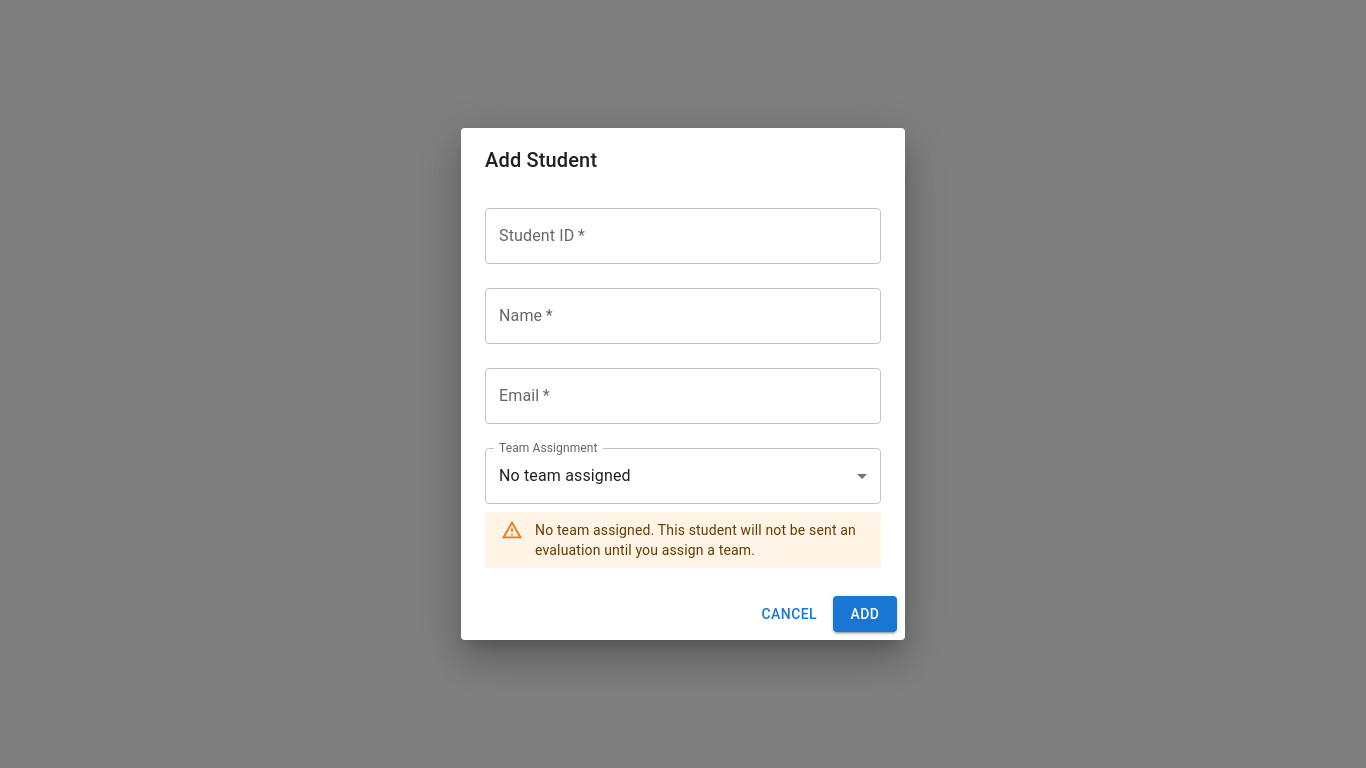
Test: AddStudentDialog › with no team chosen a small alert says that no team is assigned; choosing a team removes it
expect the message shows "No team assigned": met, box [535, 522, 856, 558]
Click the dropdown named "Team Assignment": click(565, 476) [499, 466, 631, 485]
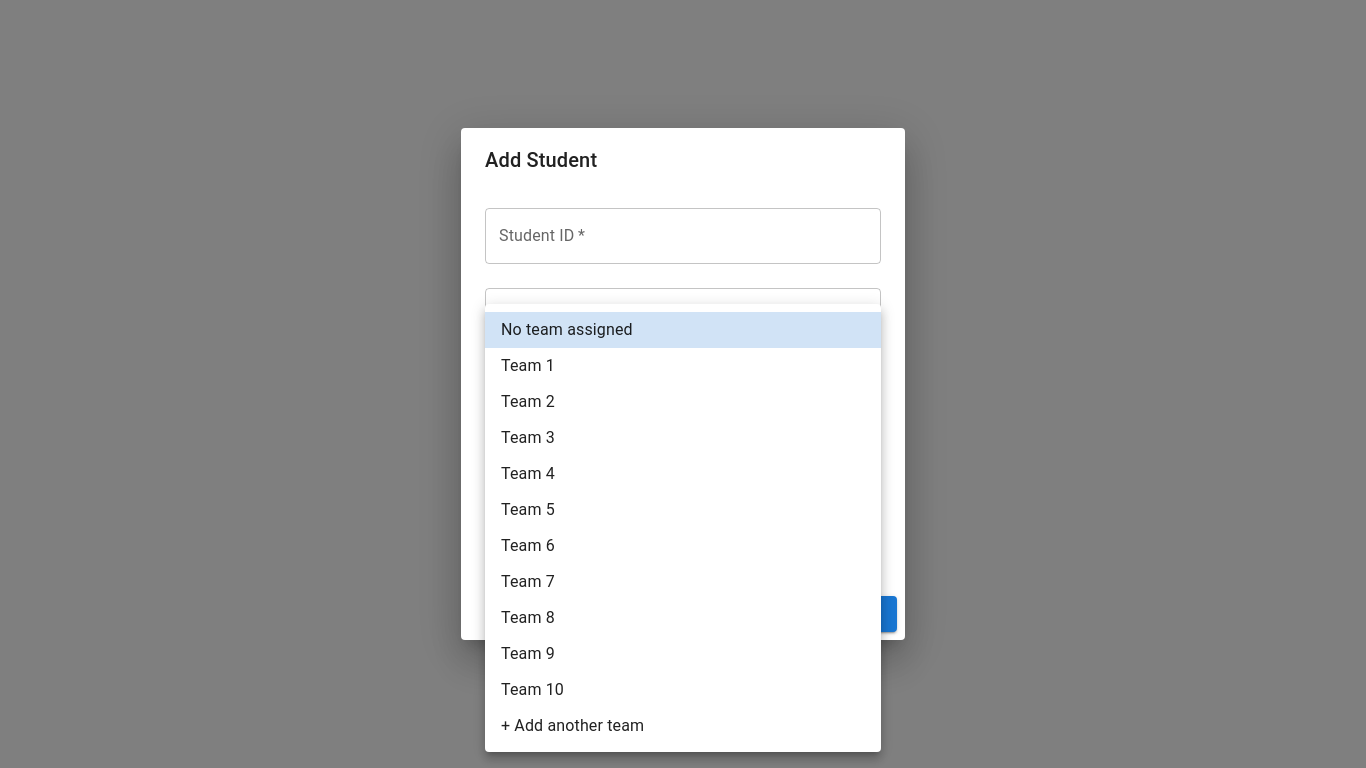
Click the option "Team 3": click(528, 438) [501, 428, 555, 447]
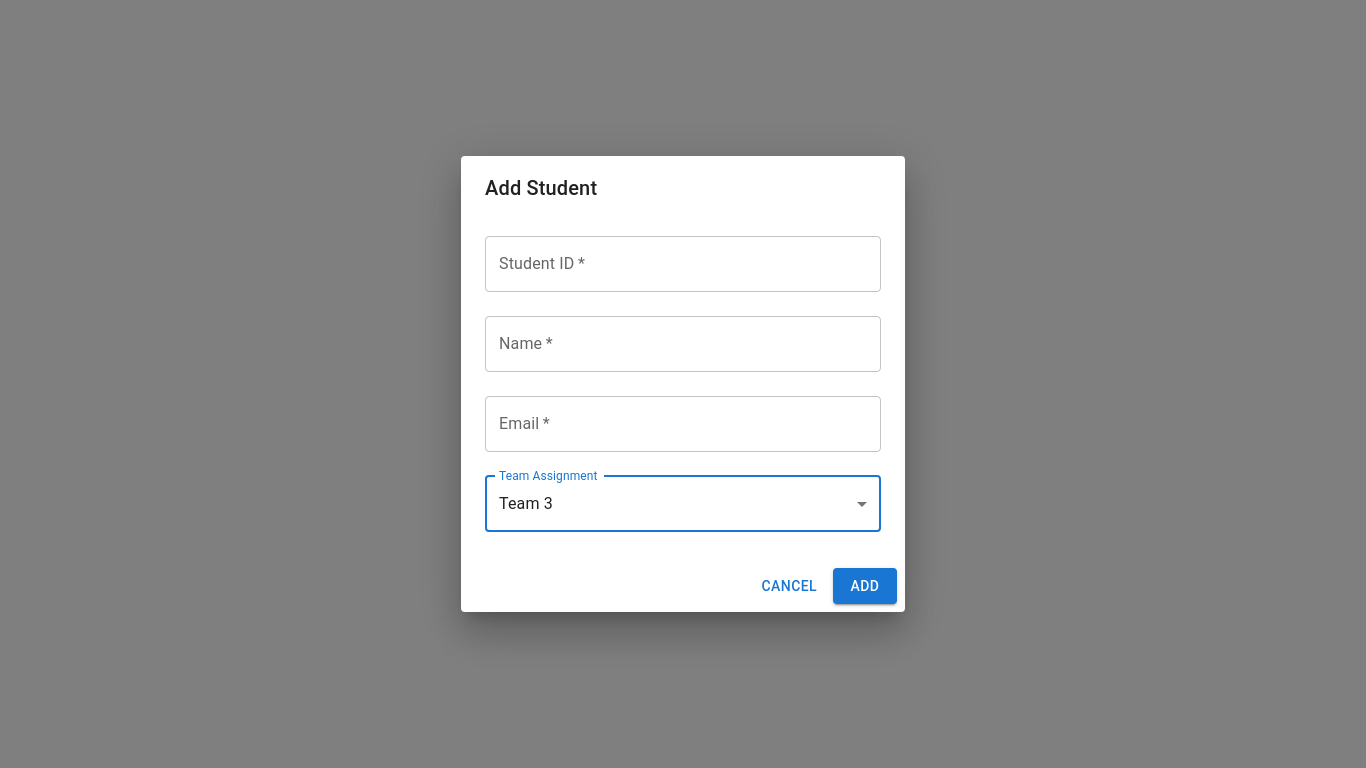
expect the message is gone: met
